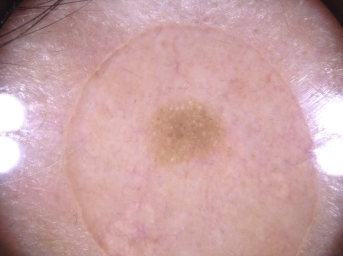seborrheic keratosis: (111, 75, 264, 180)
